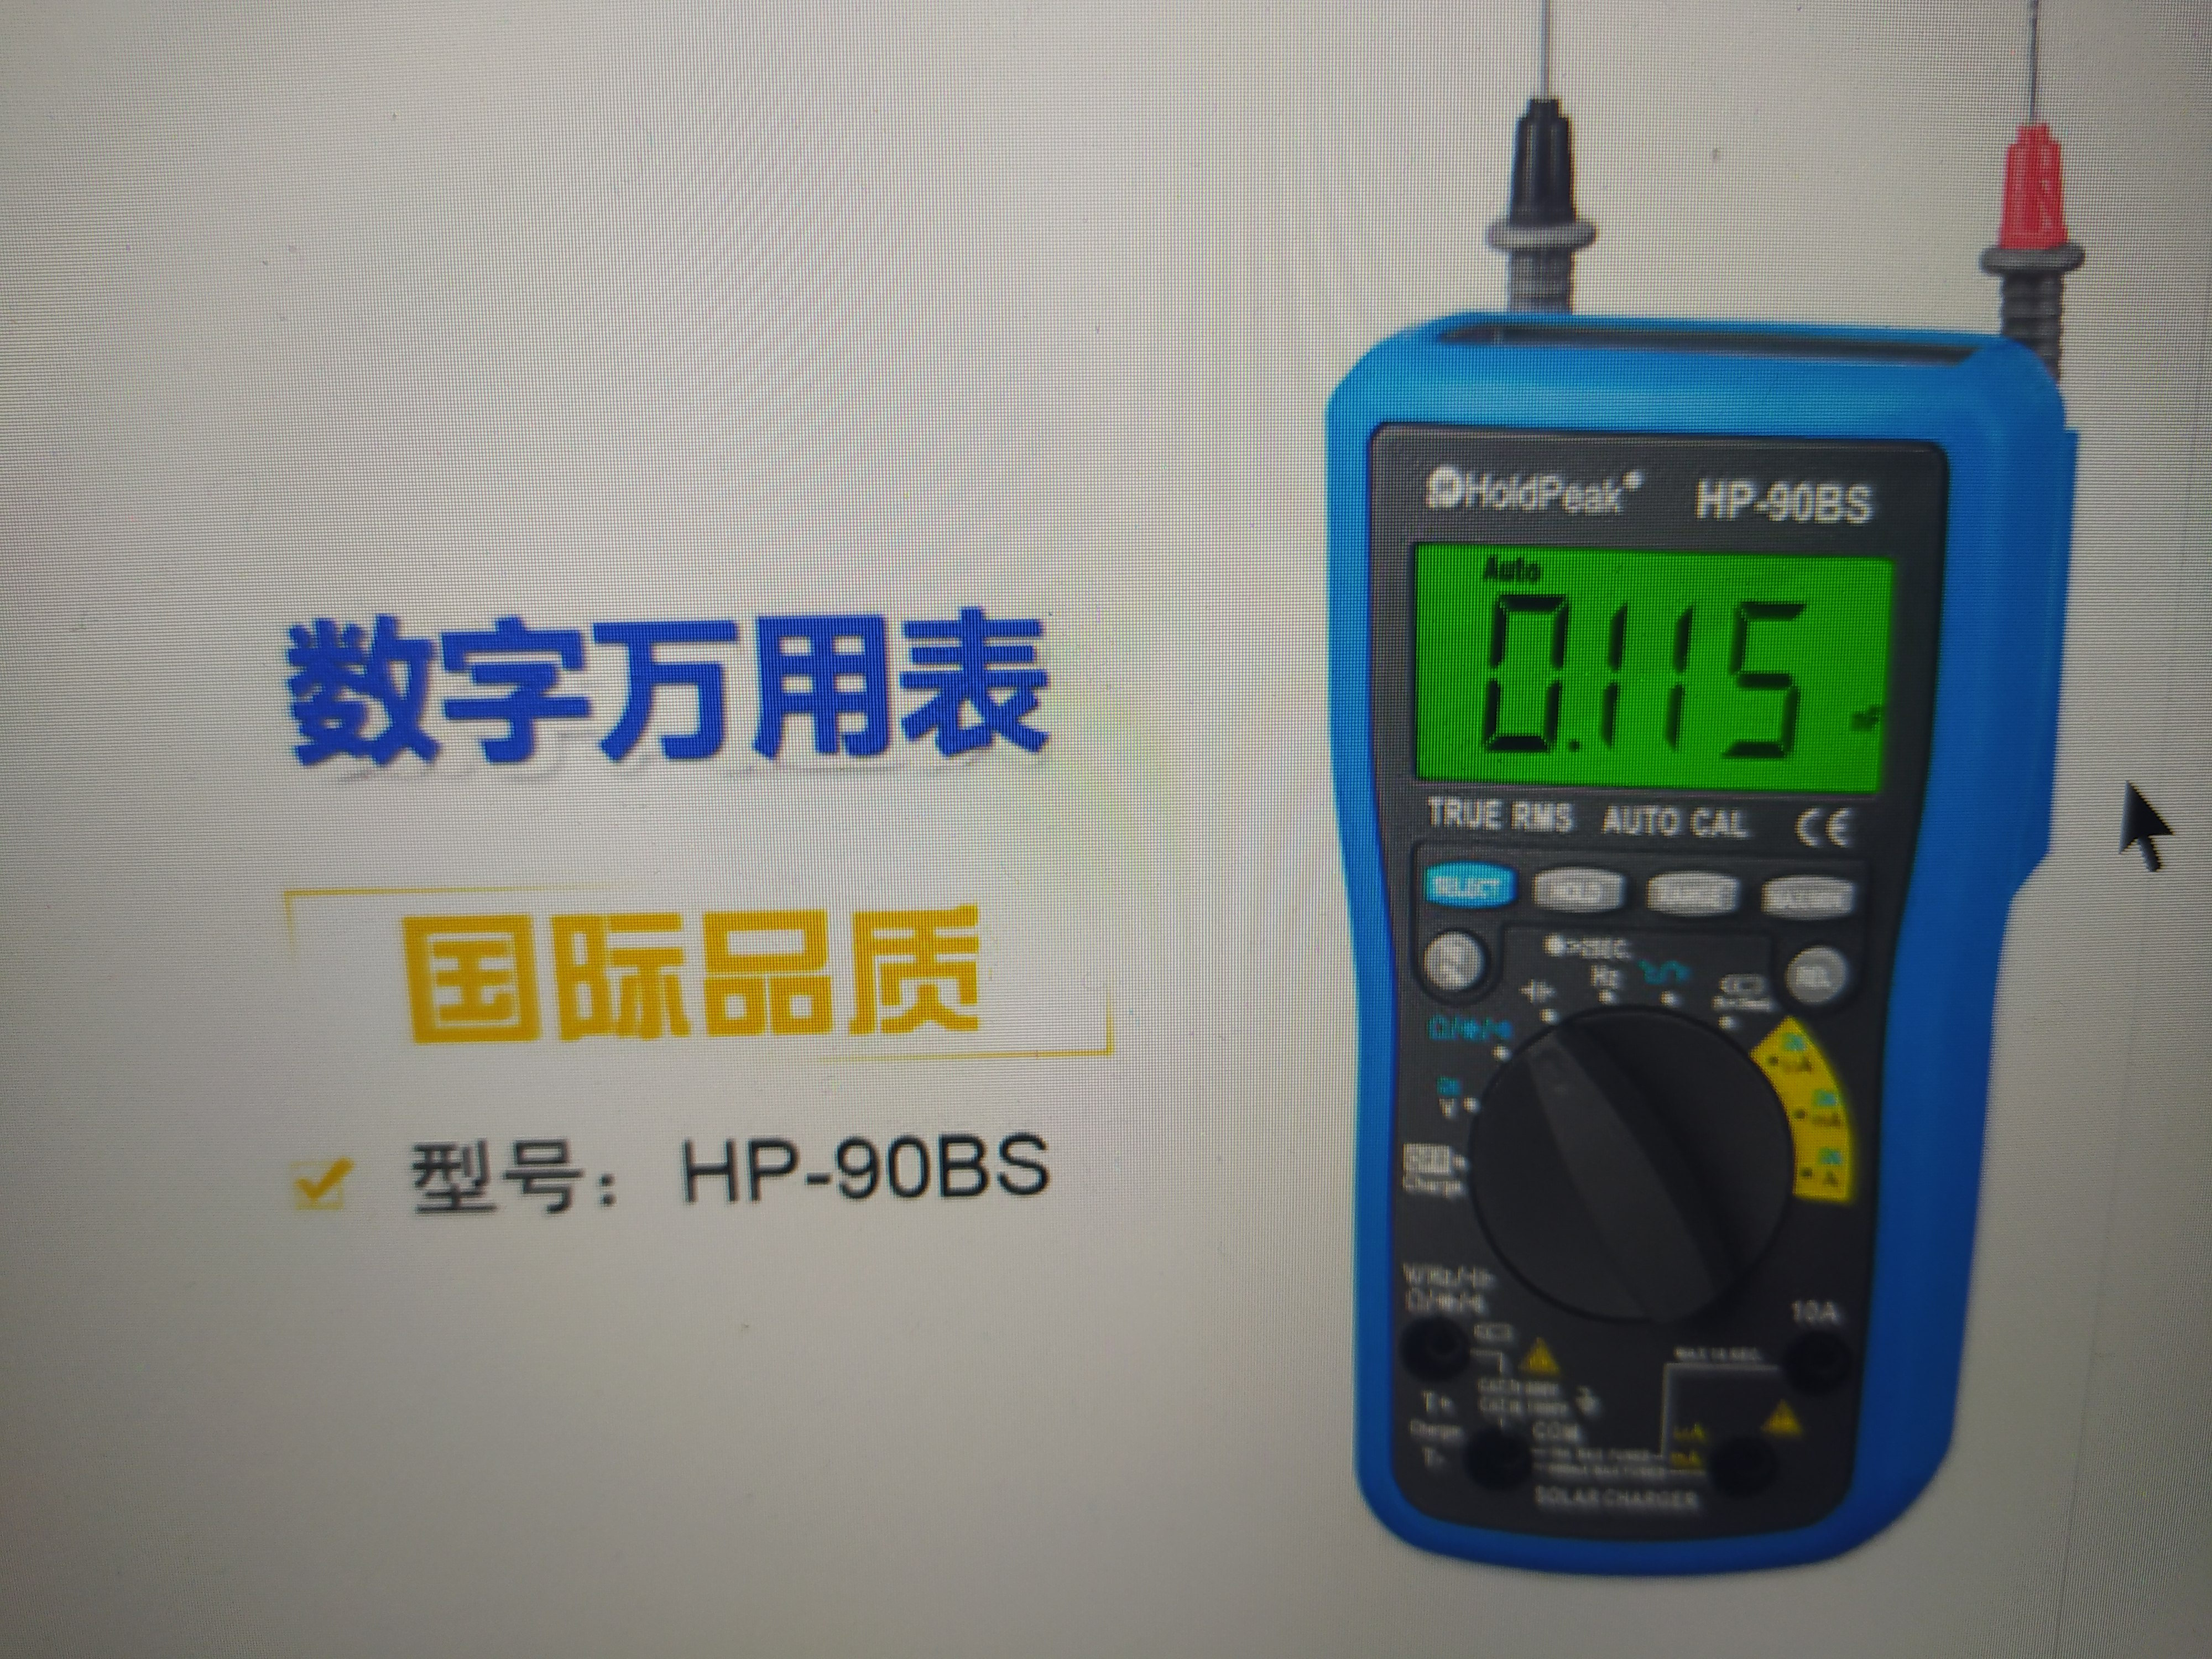.: (1566, 598, 1592, 756)
0: (1474, 589, 1575, 760), (885, 1133, 934, 1204), (1792, 484, 1813, 523), (1804, 1297, 1818, 1330)
1: (1630, 601, 1705, 760), (1585, 599, 1648, 749), (1787, 1297, 1804, 1323)
5: (1710, 598, 1817, 769)
9: (833, 1134, 876, 1208), (1764, 481, 1791, 525)
